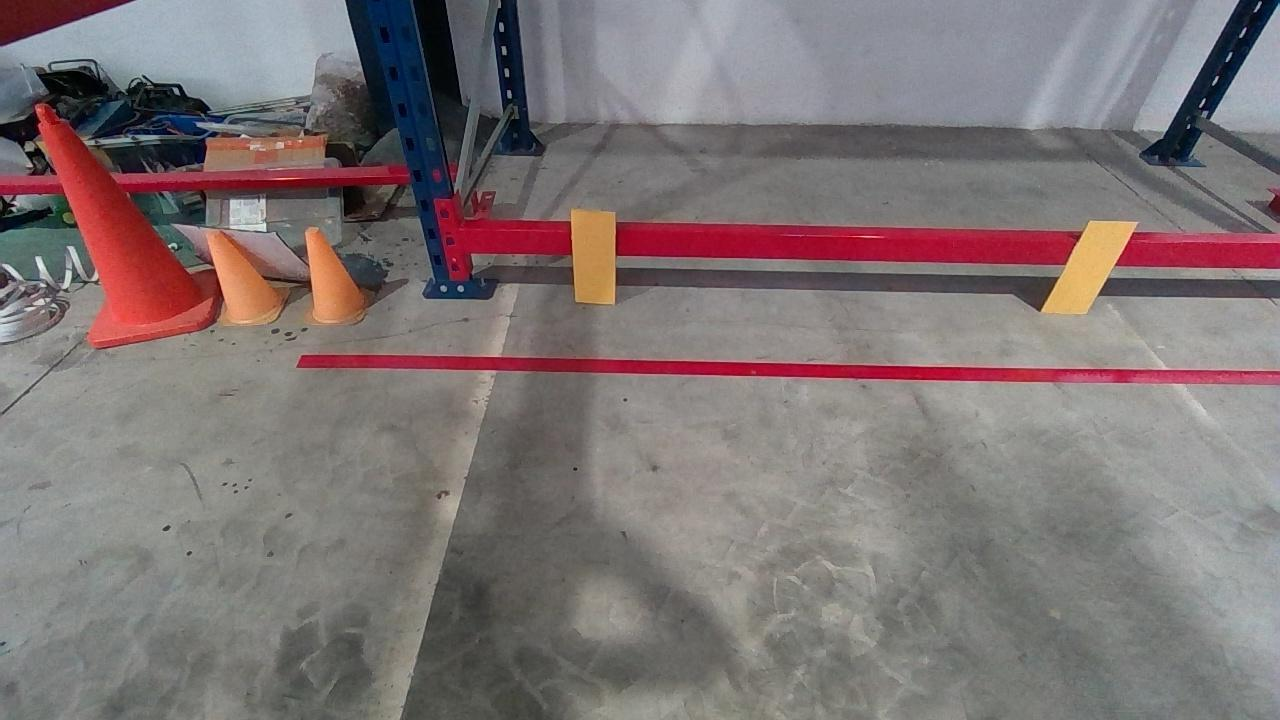h_rack: (467, 230, 1277, 269)
orange_strip: (1038, 219, 1141, 313), (570, 209, 616, 303)
red_line: (294, 353, 1276, 384)
